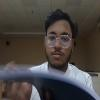notebook: (0, 65, 99, 99)
